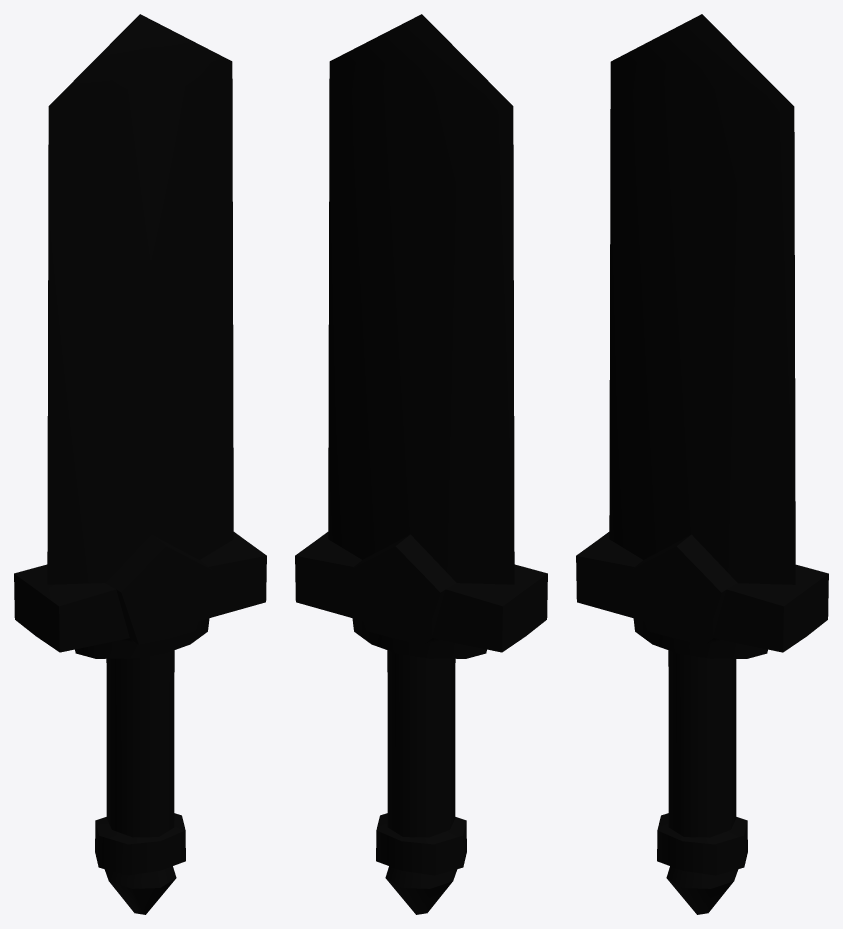
File: Sword.fbx
3 renders of one model, left to right at view 1: azimuth 30°, elevation 25°; view 2: azimuth 150°, elevation 25°; view 3: azimuth 330°, elevation 25°, orthographic.
Parts seen in each view (by area): view 1: Wapons_low1; view 2: Wapons_low1; view 3: Wapons_low1.
Part boxes in pixels (<box>): Wapons_low1: <box>14,14,266,914</box>; Wapons_low1: <box>295,14,547,914</box>; Wapons_low1: <box>576,14,828,914</box>.
Bounding box in the file's own units: 91.59 × 377 × 41.43.
